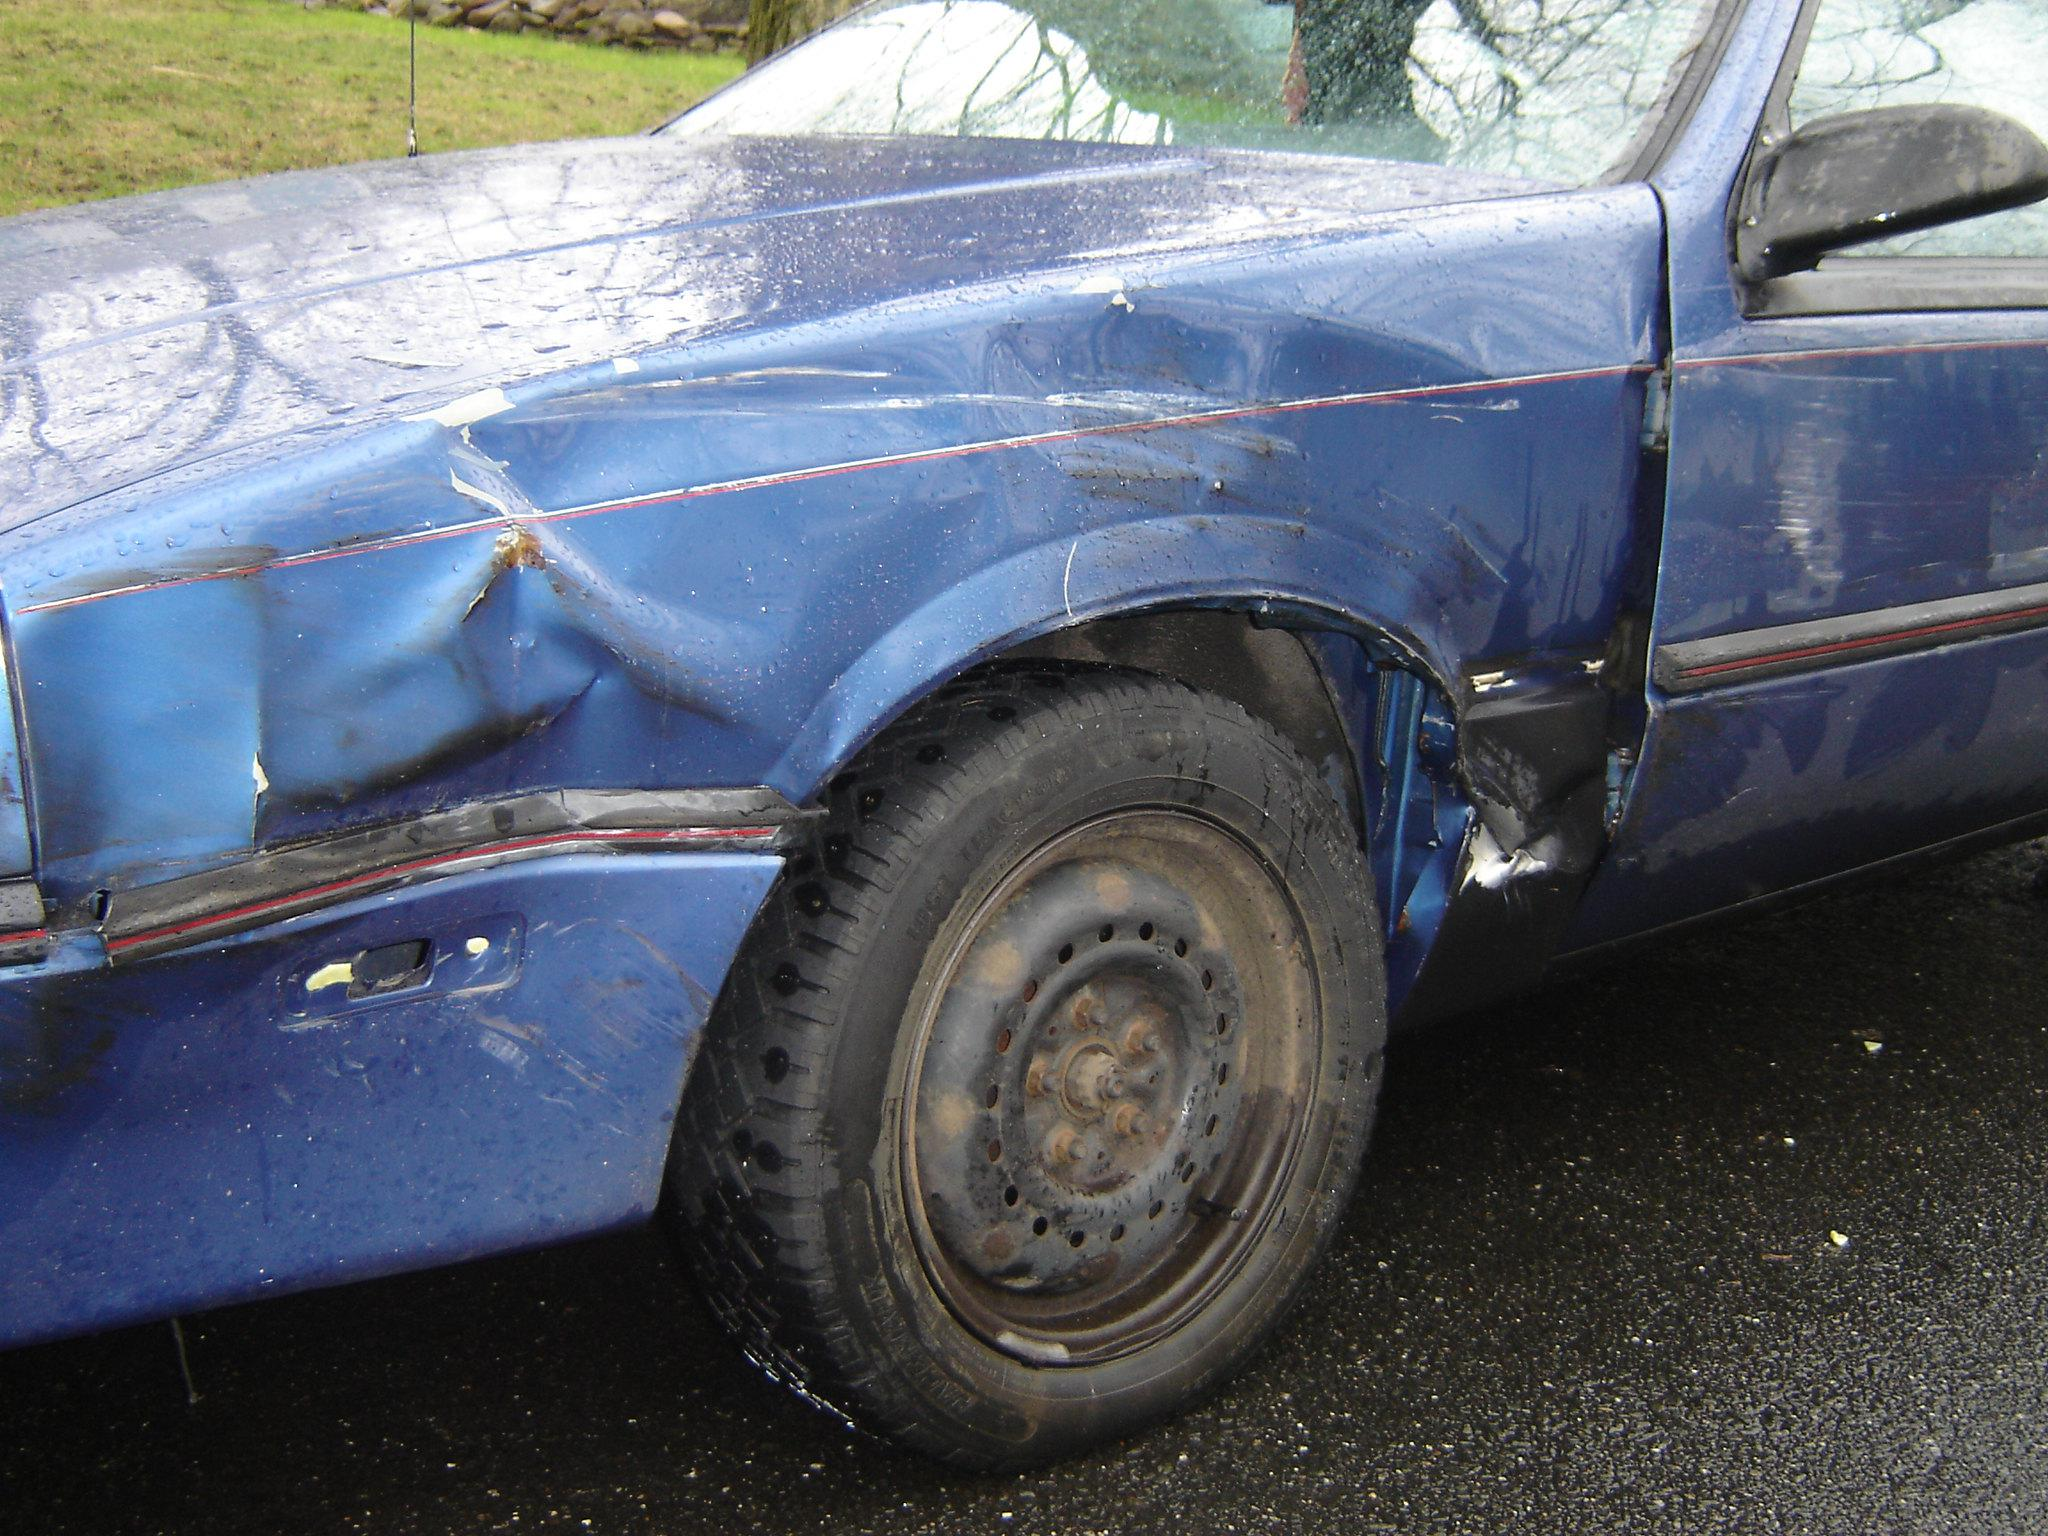fender-dent: (35, 244, 1680, 1183)
